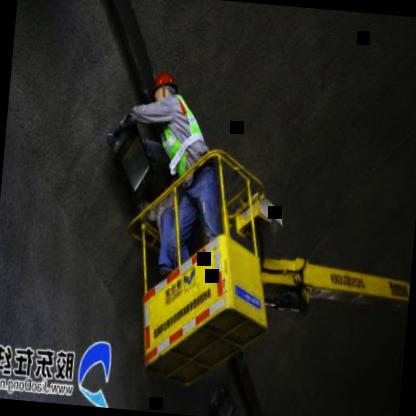helmet: (147, 68, 179, 104)
